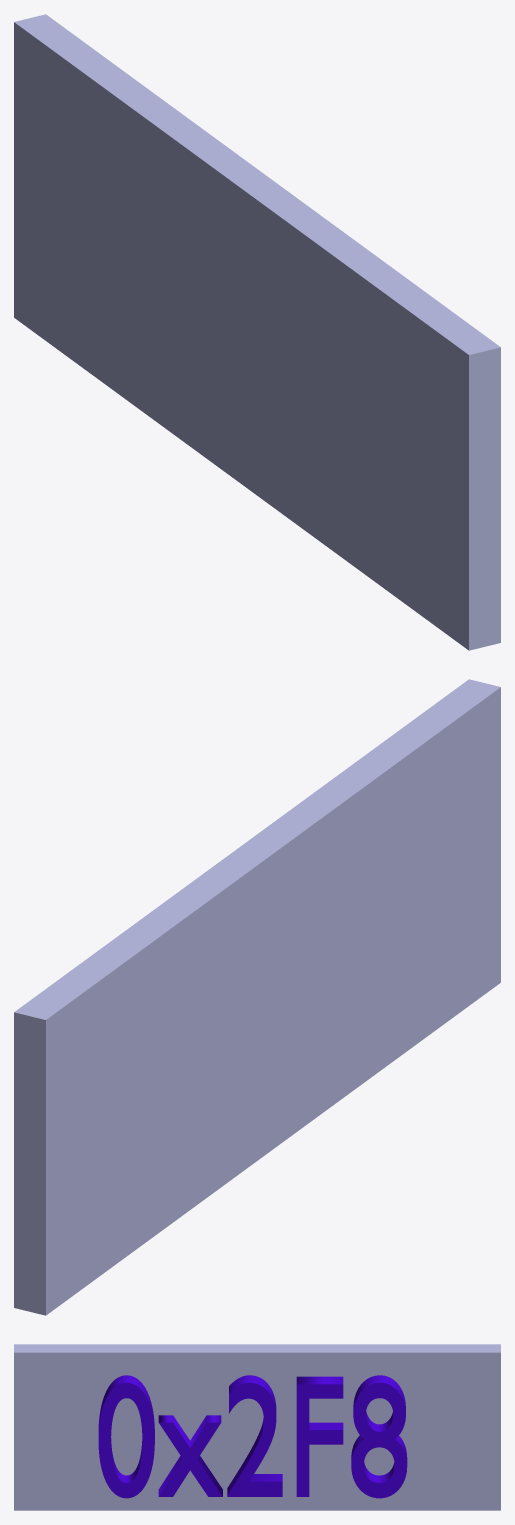
The picture shows the model from 3 angles, top to bottom: view 1: azimuth 30°, elevation 25°; view 2: azimuth 150°, elevation 25°; view 3: azimuth 270°, elevation 25°; orthographic projection. The views are drawn at different scales.
Parts seen in each view (by area): view 1: Cube; view 2: Cube; view 3: Cube, Text.
Part boxes in pixels (<box>): Cube: <box>14,14,500,650</box>; Cube: <box>14,679,500,1315</box>; Cube: <box>14,1344,500,1510</box>; Text: <box>98,1375,407,1498</box>.
Bounding box in the file's own units: 2.65 × 12.33 × 34.39.
